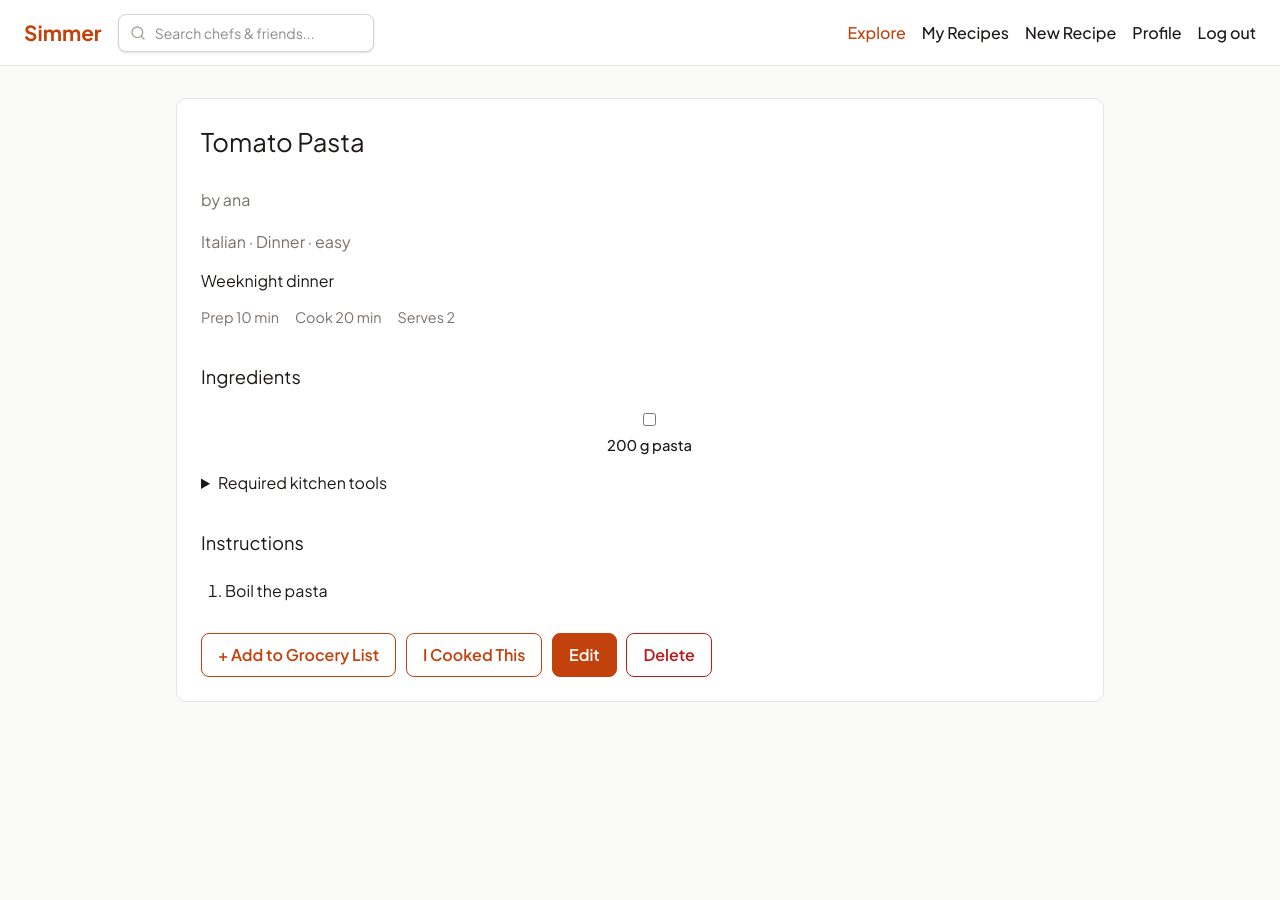
Test case: US2.3 cooking-log behavior › records an event without requiring notes or a rating
expect the heading "Tomato Pasta" is shown: met, box x1=201 y1=125 x2=365 y2=158
expect the button "Log out" is shown: met, box x1=1198 y1=21 x2=1256 y2=45
Click the button "I Cooked This". click: (474, 655)
box: x1=406 y1=633 x2=542 y2=677
(page scrolled)
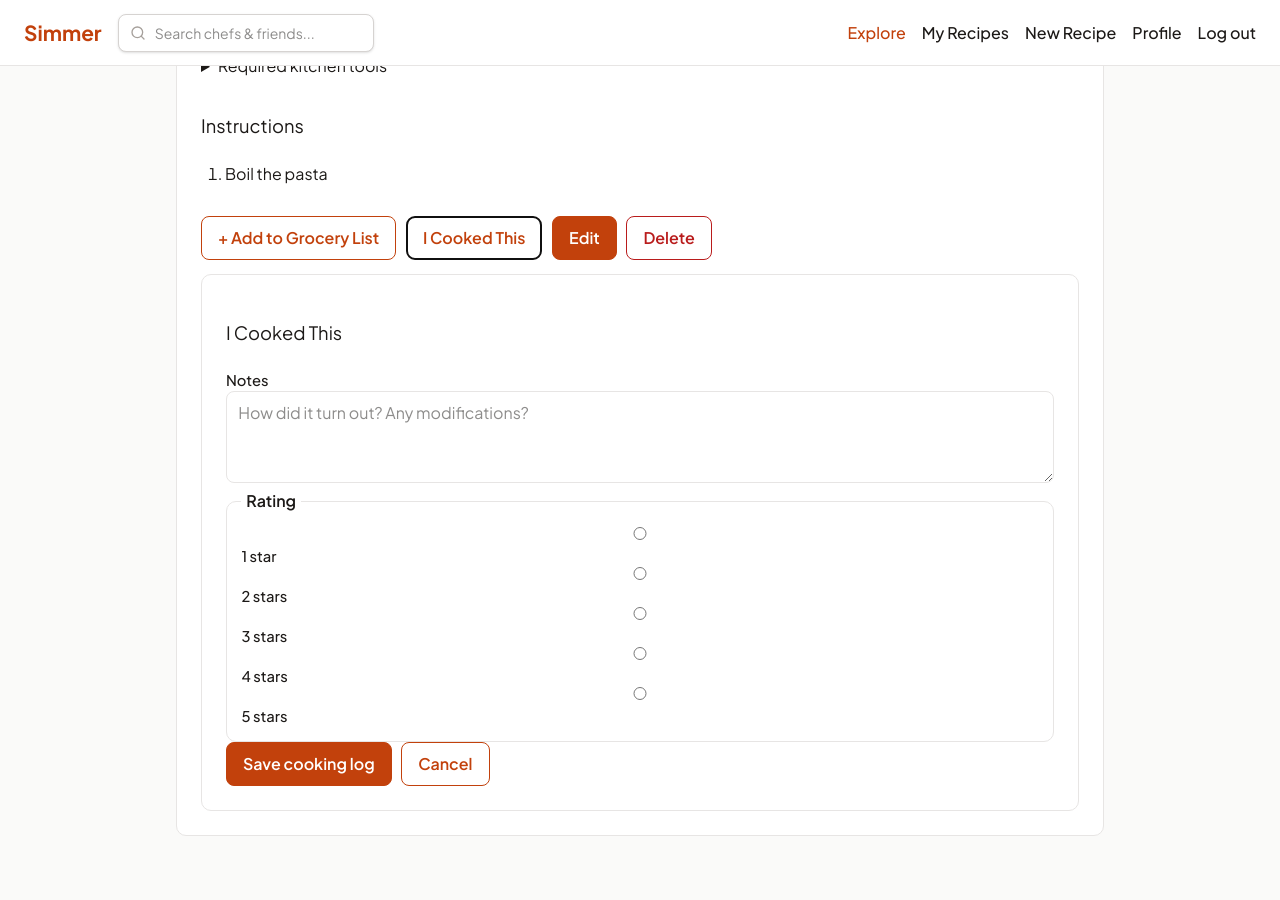
Click the button "Save cooking log". click: (309, 764)
box: x1=226 y1=742 x2=392 y2=786
(page scrolled)
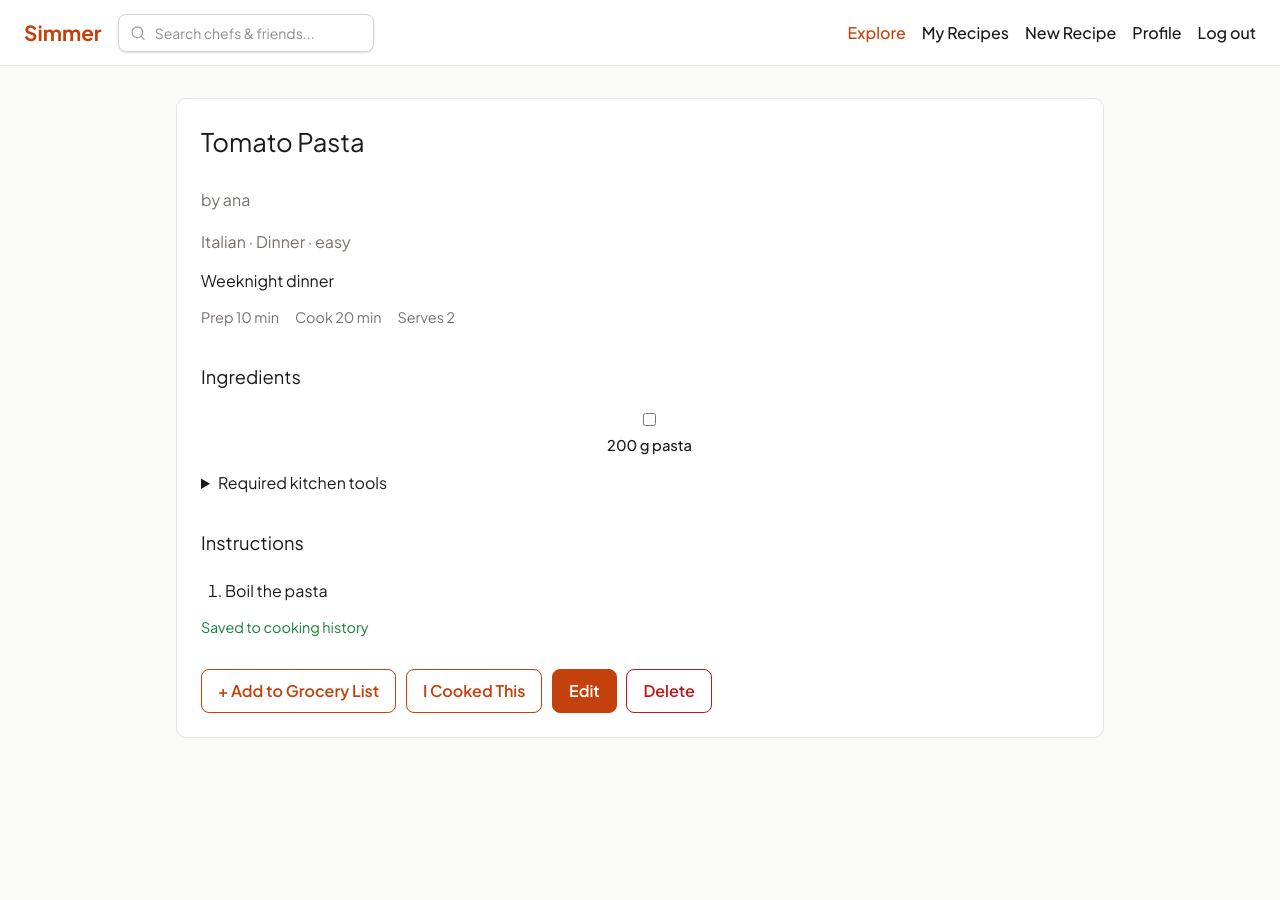
expect the message reads "Saved to cooking history": met, box x1=201 y1=618 x2=368 y2=636
expect the dialog is gone: met
